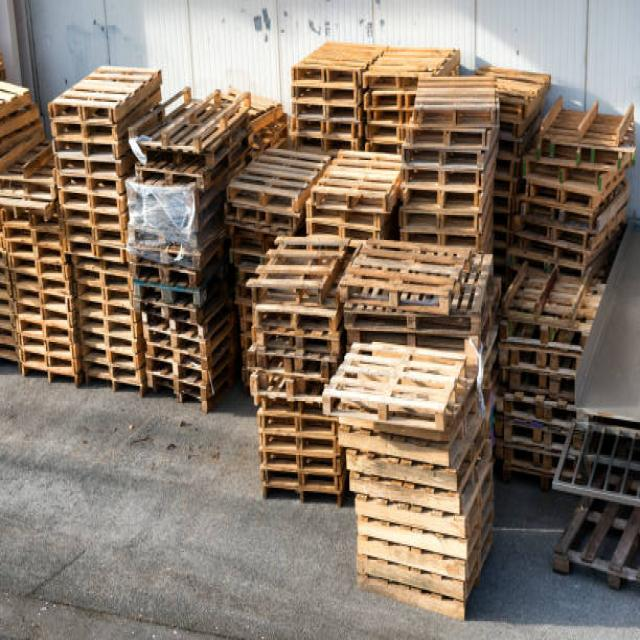Wooden-Pallets: (319, 334, 472, 426), (43, 51, 169, 124), (522, 148, 606, 194), (398, 180, 492, 220), (407, 93, 511, 125), (398, 142, 492, 176), (255, 442, 340, 475), (252, 406, 336, 436), (48, 151, 124, 180), (287, 96, 359, 126), (14, 313, 77, 347), (288, 60, 359, 90), (138, 308, 205, 339), (58, 217, 128, 245)
